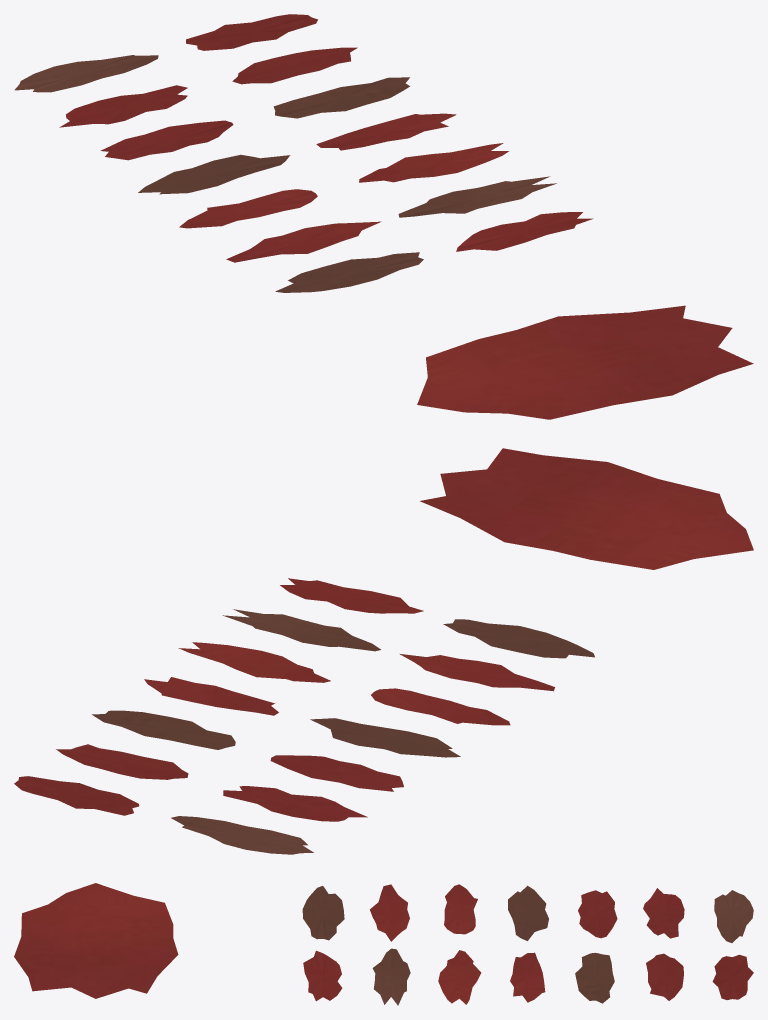
Rendered from blood_shoeprint.glb.
3 renders of one model, top to bottom at view 1: azimuth 30°, elevation 25°; view 2: azimuth 150°, elevation 25°; view 3: azimuth 270°, elevation 25°, orthographic. The views are drawn at different scales.
Parts seen in each view (by area): view 1: blood_shoeprint; view 2: blood_shoeprint; view 3: blood_shoeprint.
Part boxes in pixels (bbox=[...]): blood_shoeprint: bbox=[14, 14, 753, 419]; blood_shoeprint: bbox=[14, 448, 753, 854]; blood_shoeprint: bbox=[14, 883, 753, 1005].
Size of the model in its own units: 0.128 by 0.0003 by 0.3255.
Materials: 2 (2 with a texture image).
